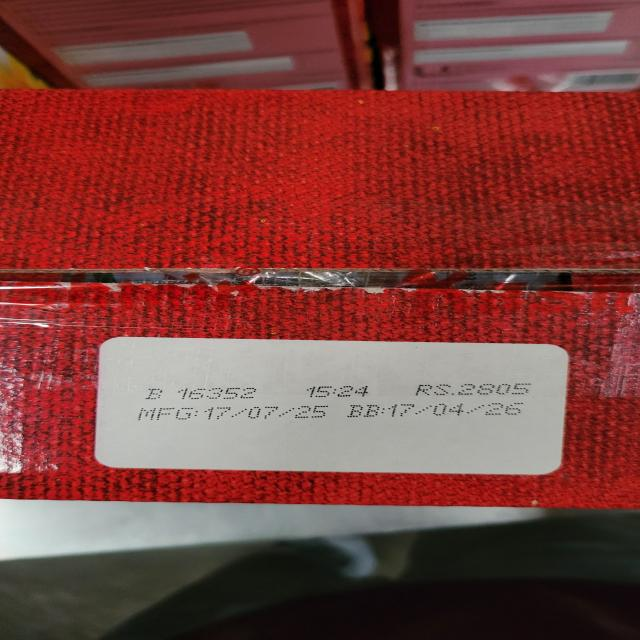BB: (348, 402, 525, 418)
Batch: (145, 388, 264, 400)
MFG: (138, 406, 326, 421)
RS: (414, 383, 533, 396)
TimeStamp: (306, 385, 372, 398)
